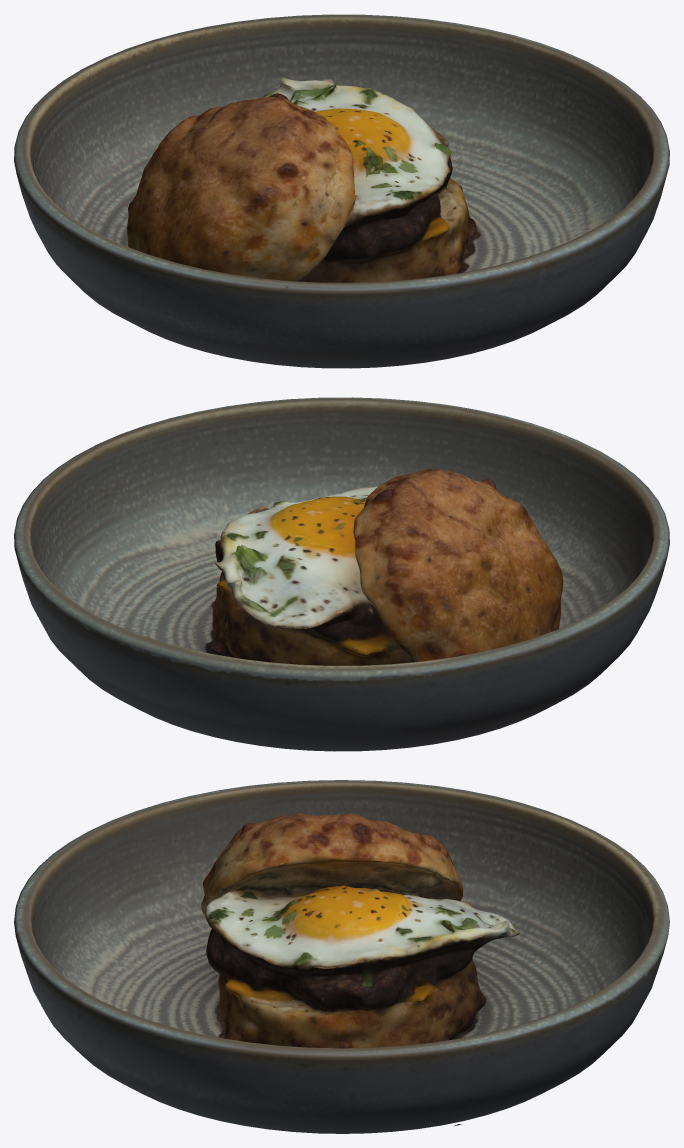
The model's file is Breakfast_biscuit_sandwich.FBX.
3 renders of one model, top to bottom at view 1: azimuth 30°, elevation 25°; view 2: azimuth 150°, elevation 25°; view 3: azimuth 270°, elevation 25°, orthographic.
Visible parts, largest first — view 1: Breakfast biscuit sandwich; view 2: Breakfast biscuit sandwich; view 3: Breakfast biscuit sandwich.
Boxes of the visible parts, x1,y1,x2,y2 form: Breakfast biscuit sandwich: (14, 14, 669, 368); Breakfast biscuit sandwich: (14, 397, 669, 751); Breakfast biscuit sandwich: (14, 780, 669, 1133).
Bounding box in the file's own units: 3.85 × 1.24 × 3.85.
1 material, 1 textured.
